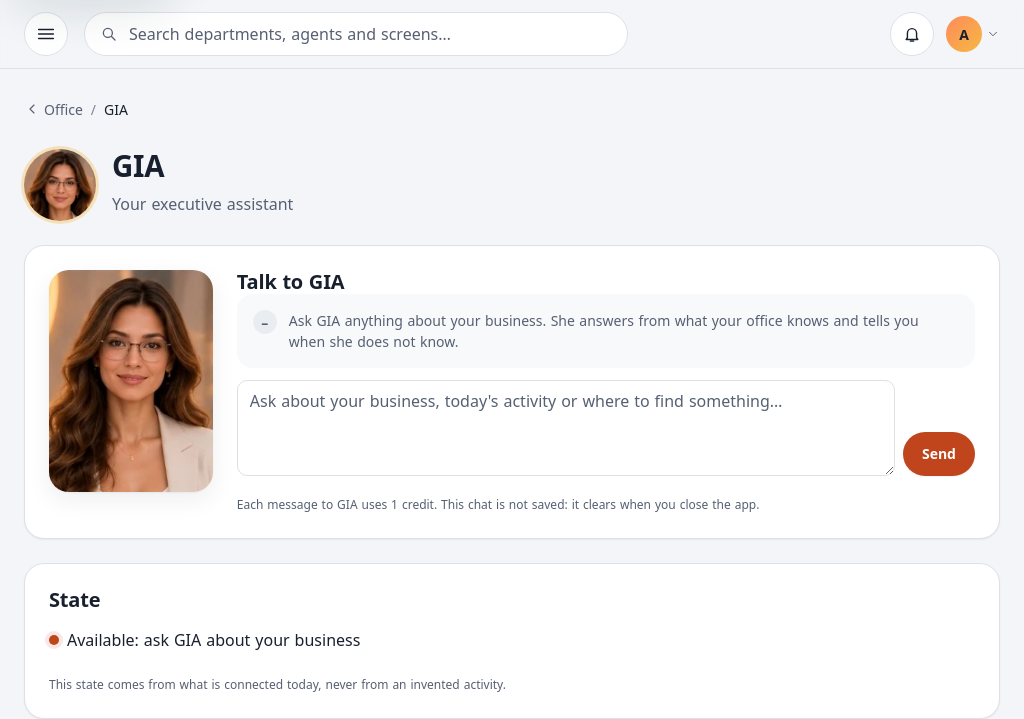
Test: GIA prepares a task for an agent (AE-3) › discarding sends nothing
Replace the text in the text box named "Your message to GIA" with "Pídele a Lucía una propuesta de catering" at {"x": 566, "y": 428}, box [237,380,895,476]
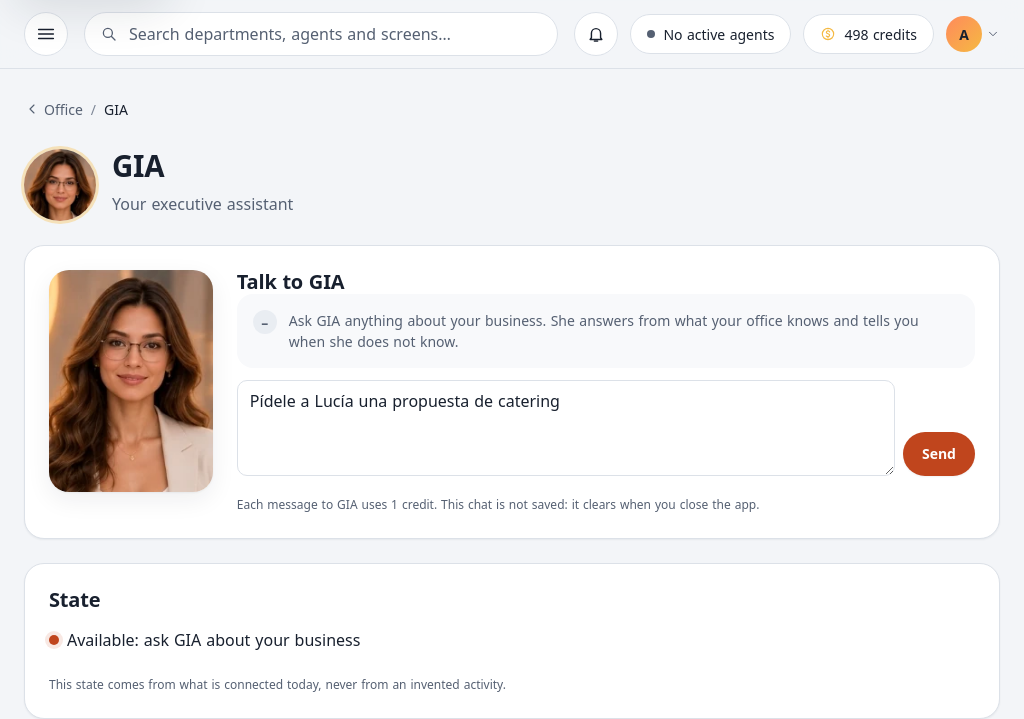
Click the button "Send" at {"x": 939, "y": 454}, box [903,432,975,476]
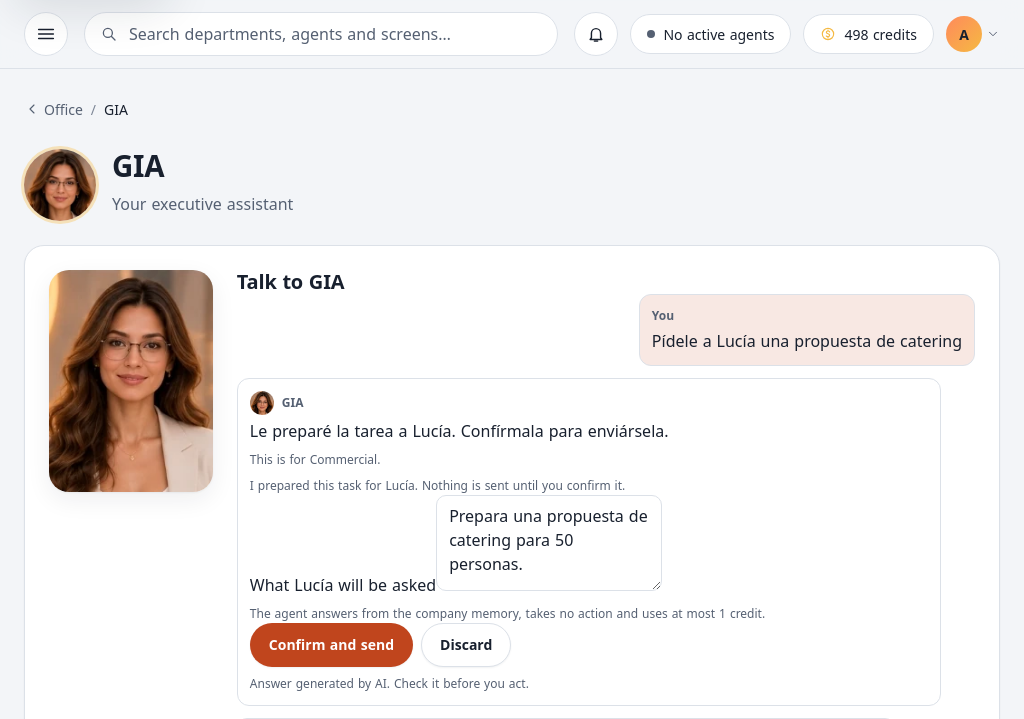
Click the button "Discard" at {"x": 466, "y": 645}, box [421,623,511,667]
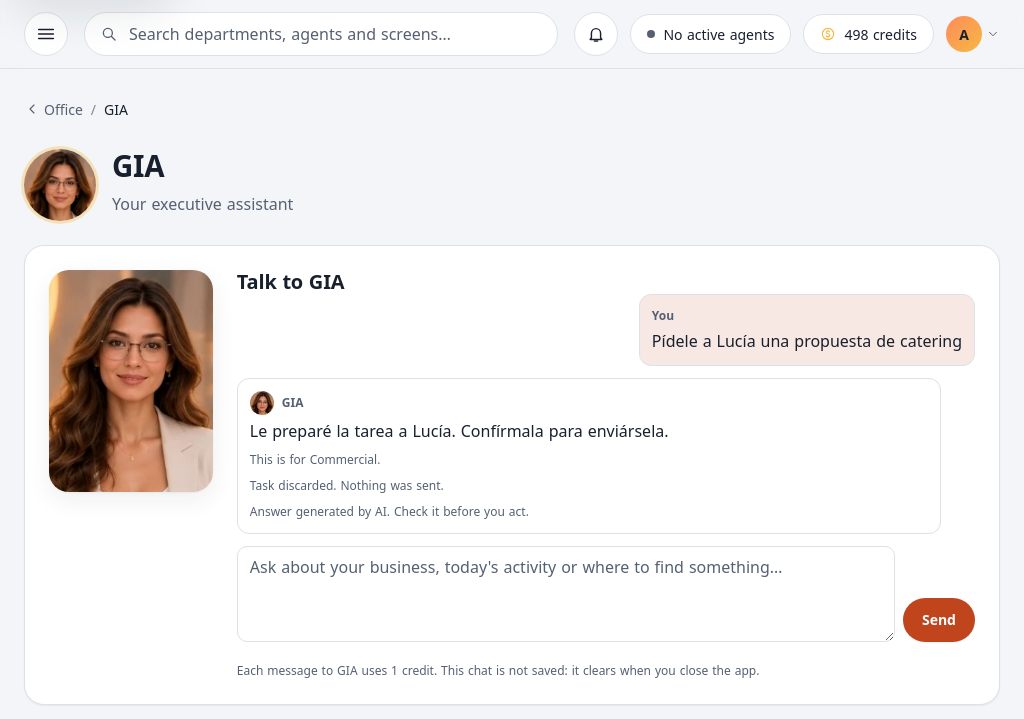
Now the text "Task discarded. Nothing was sent." is shown, box [250,477,444,494]
